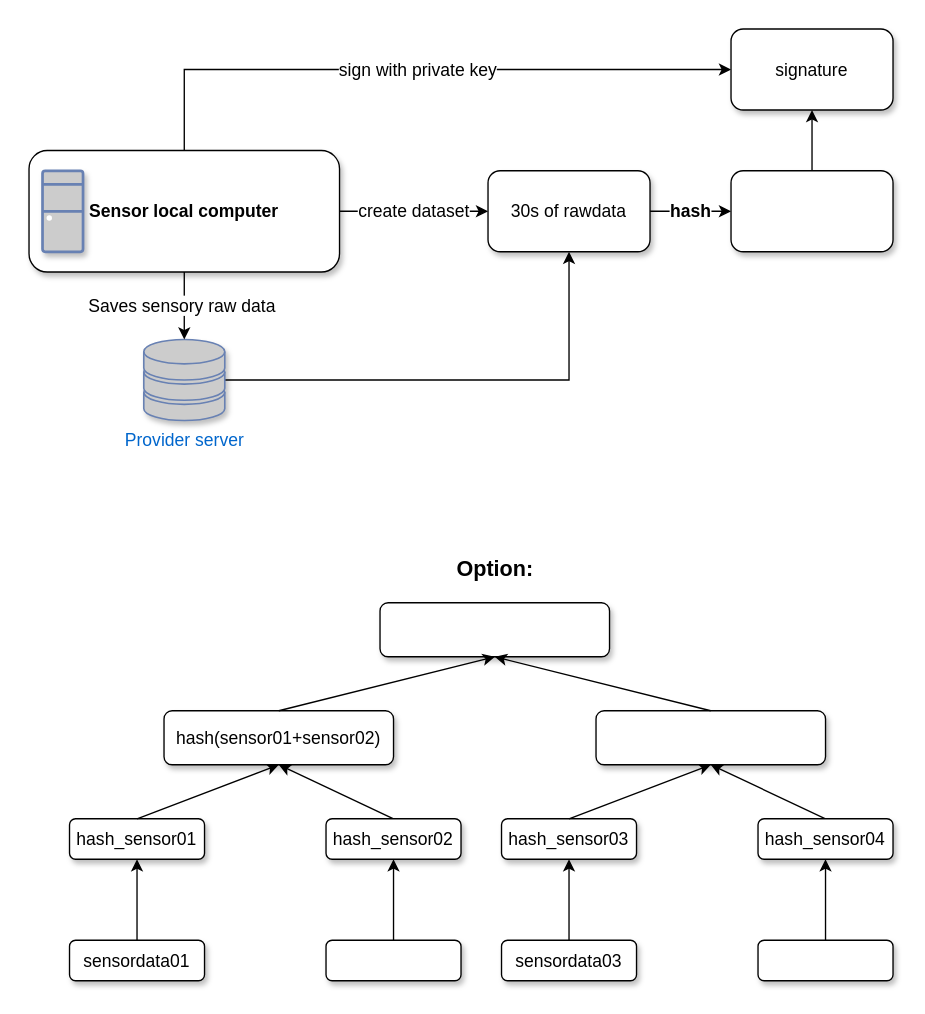
Image size: 925x1014. Some labels were removed from this diagram. Here are the shapes that lost their labels. From the top down, the centre of each, then its label:
At [812,212]: "hash(30s of rawdata)".
At [495,631]: "hash(...)".
At [711,739]: "hash(sensor03+sensor04)".
At [394,962]: "sensordata02".
At [826,962]: "sensordata04".
